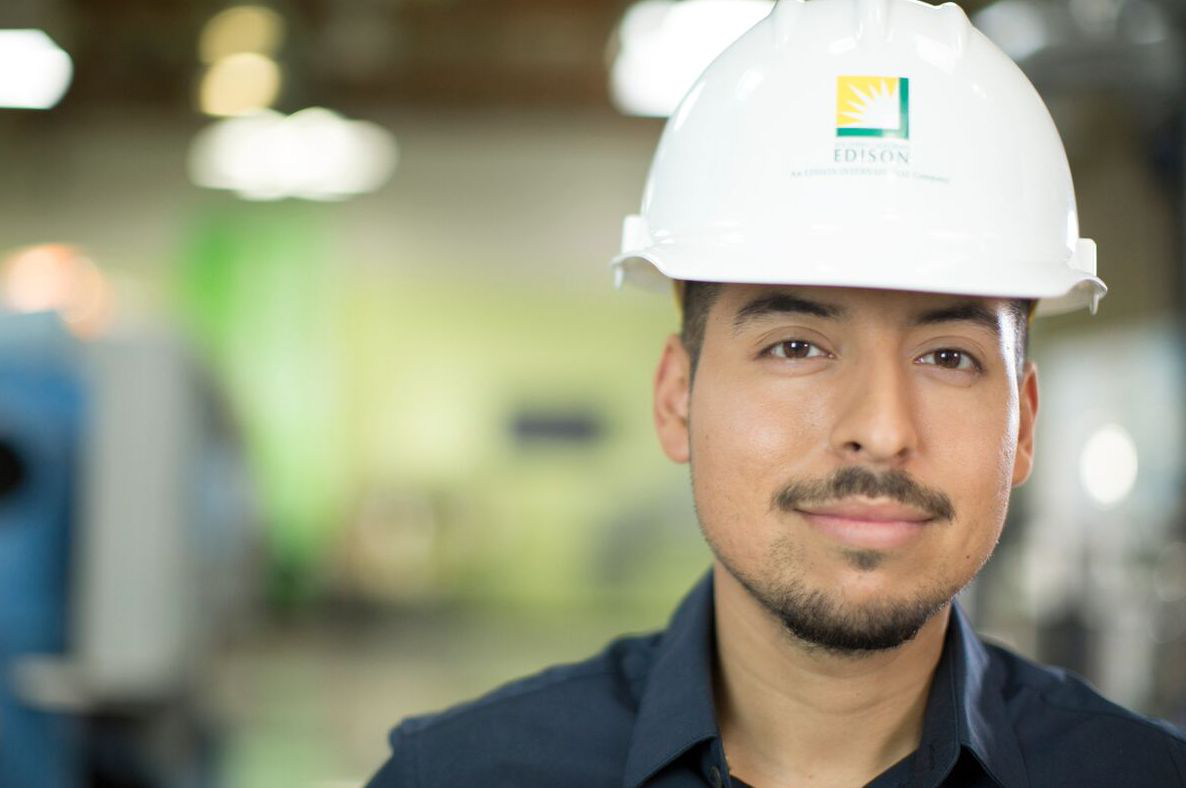hat: (613, 2, 1110, 650)
